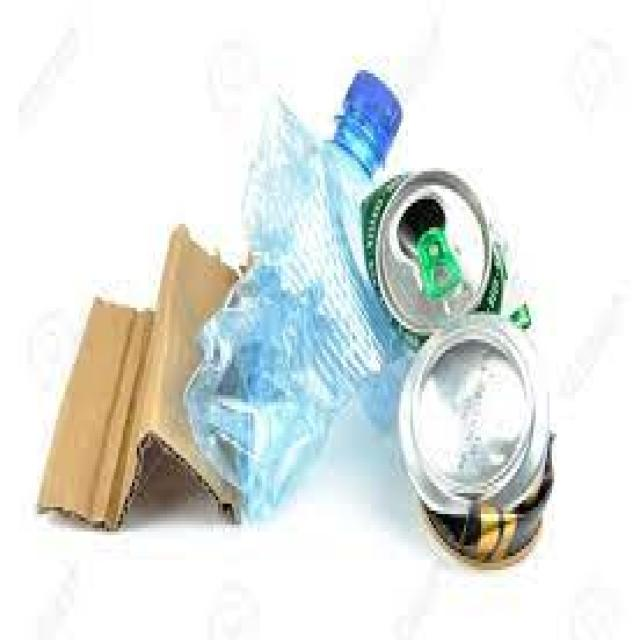Metal: (393, 310, 563, 584), (356, 163, 538, 365)
Papel: (28, 210, 250, 530)
Plastico: (177, 47, 416, 525)
